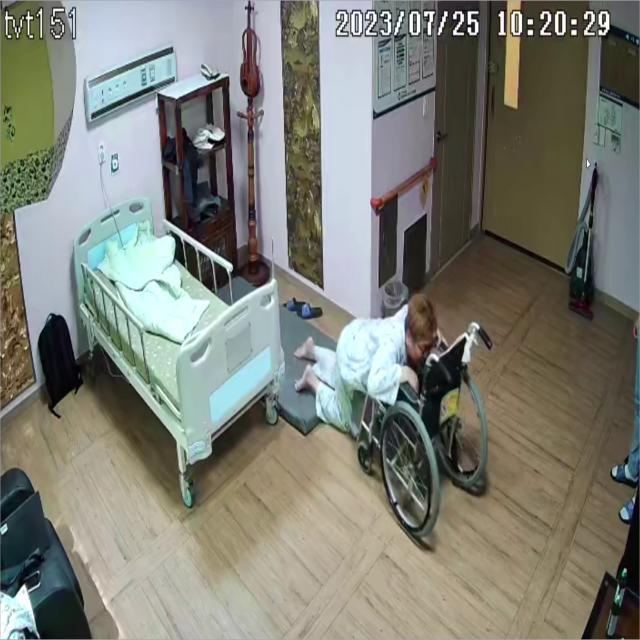fall: (292, 294, 438, 438)
patient: (292, 293, 438, 437)
